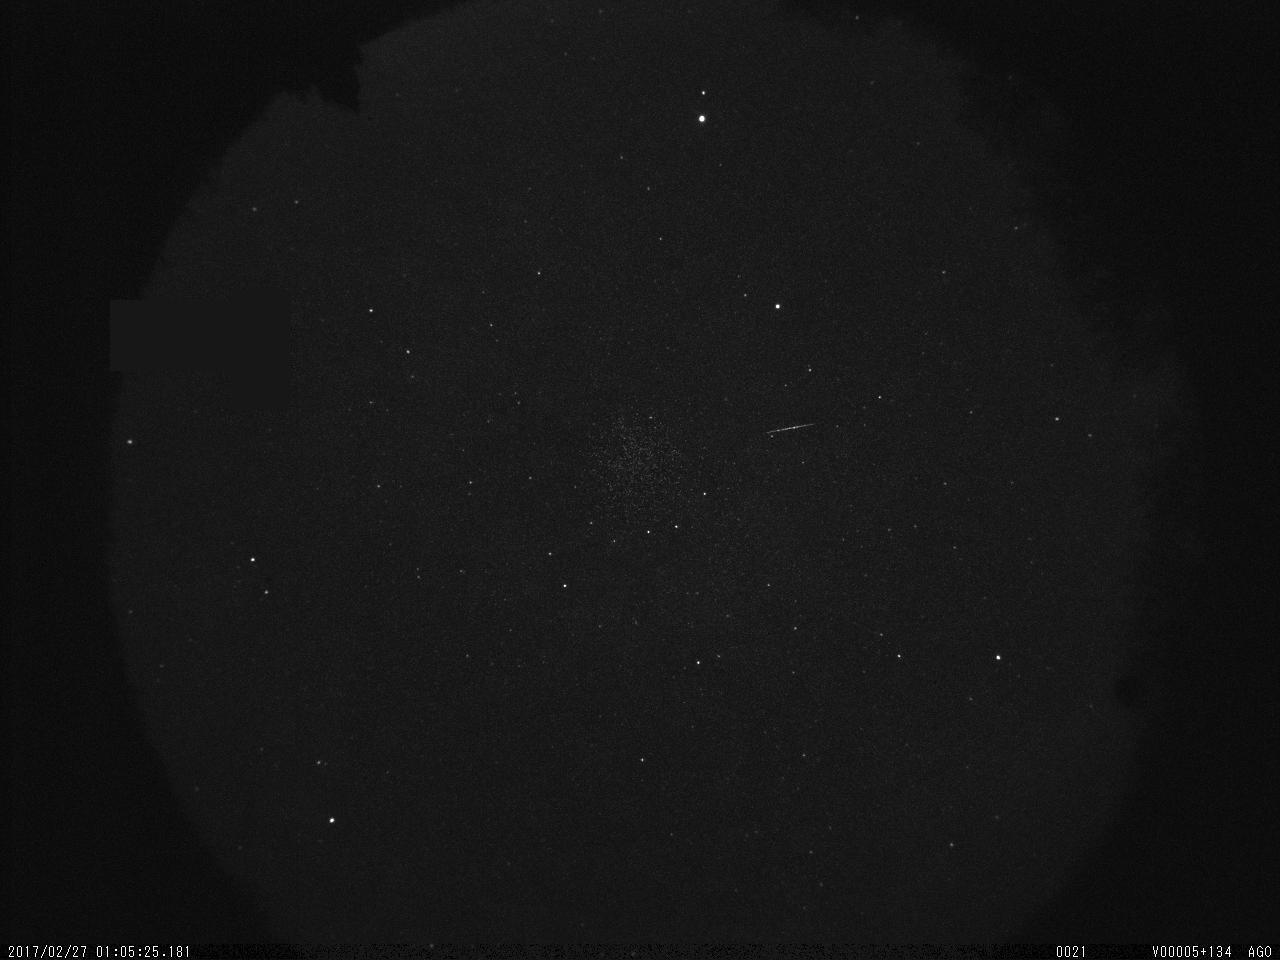meteor: (749, 405, 838, 453)
